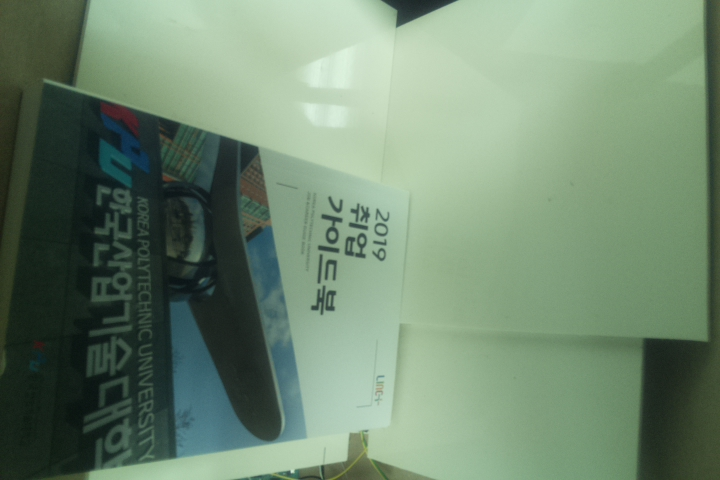book: (2, 73, 420, 480)
